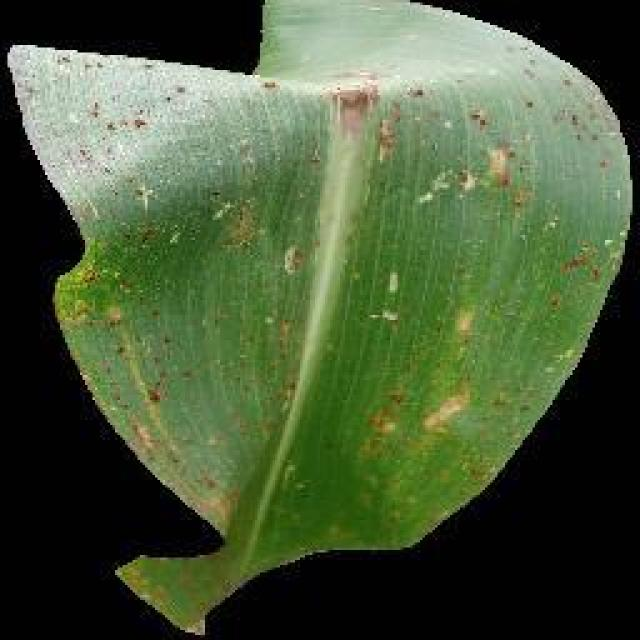Corn Common Rust: (88, 75, 395, 380)
